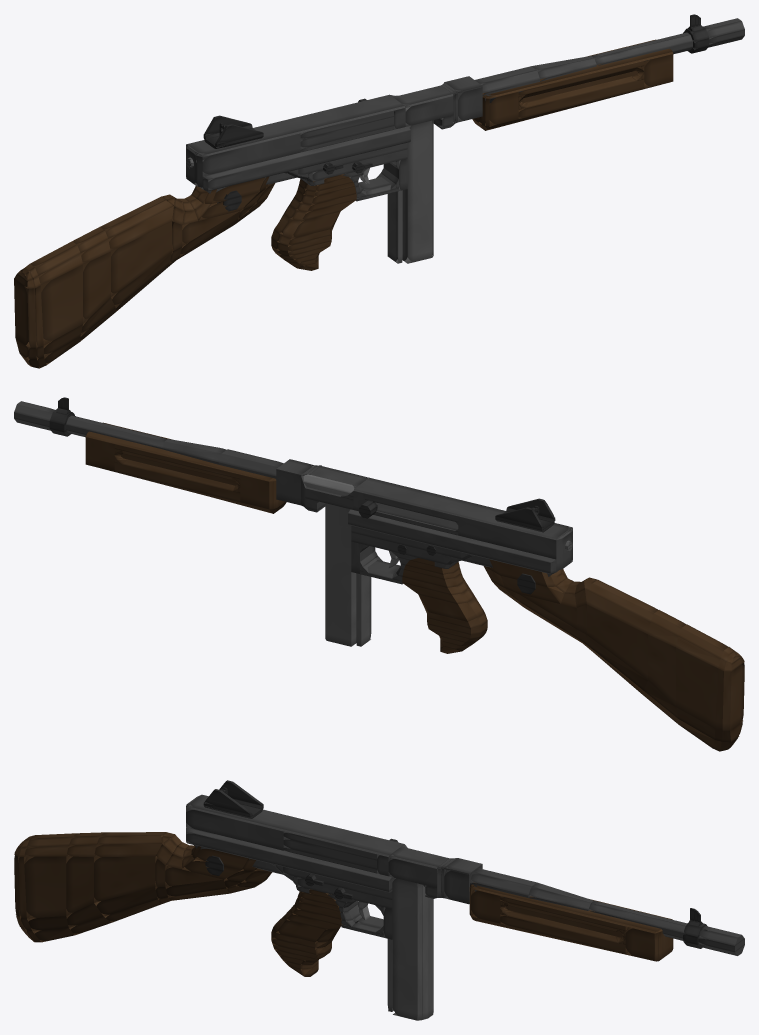
Rendered from thompson.obj.
3 renders of one model, top to bottom at view 1: azimuth 30°, elevation 25°; view 2: azimuth 150°, elevation 25°; view 3: azimuth 330°, elevation 25°, orthographic.
Visible parts, largest first — view 1: ammoModel0, gunModel7, defaultStockModel6, defaultStockModel4, defaultBarrelModel16, defaultBarrelModel0, defaultStockModel5, defaultStockModel46, gunModel25, gunModel15, defaultBarrelModel17, ammoModel2 (+21 smaller); view 2: ammoModel0, gunModel7, defaultStockModel6, defaultStockModel4, defaultBarrelModel16, defaultBarrelModel0, defaultStockModel5, defaultStockModel46, gunModel25, gunModel15, ammoModel2, defaultBarrelModel1 (+20 smaller); view 3: ammoModel0, gunModel7, defaultStockModel6, defaultStockModel4, defaultBarrelModel16, defaultBarrelModel0, ammoModel4, defaultStockModel5, gunModel25, gunModel15, defaultBarrelModel17, defaultBarrelModel1 (+35 smaller).
Boxes of the visible parts, bbox=[...] form: ammoModel0: bbox=[402, 120, 432, 263]; gunModel7: bbox=[187, 94, 405, 157]; defaultStockModel6: bbox=[38, 264, 82, 345]; defaultStockModel4: bbox=[108, 221, 171, 296]; defaultBarrelModel16: bbox=[202, 130, 410, 190]; defaultBarrelModel0: bbox=[194, 133, 300, 176]; defaultStockModel5: bbox=[80, 250, 110, 323]; defaultStockModel46: bbox=[14, 279, 36, 347]; gunModel25: bbox=[484, 39, 672, 98]; gunModel15: bbox=[518, 79, 644, 117]; defaultBarrelModel17: bbox=[202, 124, 410, 179]; ammoModel2: bbox=[387, 160, 402, 263]; ammoModel0: bbox=[326, 503, 356, 646]; gunModel7: bbox=[353, 477, 571, 540]; defaultStockModel6: bbox=[676, 647, 717, 728]; defaultStockModel4: bbox=[587, 604, 647, 679]; defaultBarrelModel16: bbox=[348, 513, 550, 573]; defaultBarrelModel0: bbox=[458, 516, 572, 559]; defaultStockModel5: bbox=[648, 634, 675, 706]; defaultStockModel46: bbox=[722, 662, 744, 730]; gunModel25: bbox=[86, 422, 272, 481]; gunModel15: bbox=[114, 462, 240, 501]; ammoModel2: bbox=[356, 573, 371, 646]; defaultBarrelModel1: bbox=[66, 415, 167, 447]; ammoModel0: bbox=[392, 878, 417, 1020]; gunModel7: bbox=[186, 794, 404, 857]; defaultStockModel6: bbox=[24, 856, 72, 918]; defaultStockModel4: bbox=[94, 857, 156, 902]; defaultBarrelModel16: bbox=[186, 832, 395, 891]; defaultBarrelModel0: bbox=[186, 806, 290, 850]; ammoModel4: bbox=[422, 884, 433, 1019]; defaultStockModel5: bbox=[66, 856, 101, 915]; gunModel25: bbox=[471, 885, 671, 933]; gunModel15: bbox=[500, 915, 628, 953]; defaultBarrelModel17: bbox=[186, 827, 393, 880]; defaultBarrelModel1: bbox=[588, 900, 687, 932].
Size of the model in its own units: 24.65 by 6.55 by 1.6.
